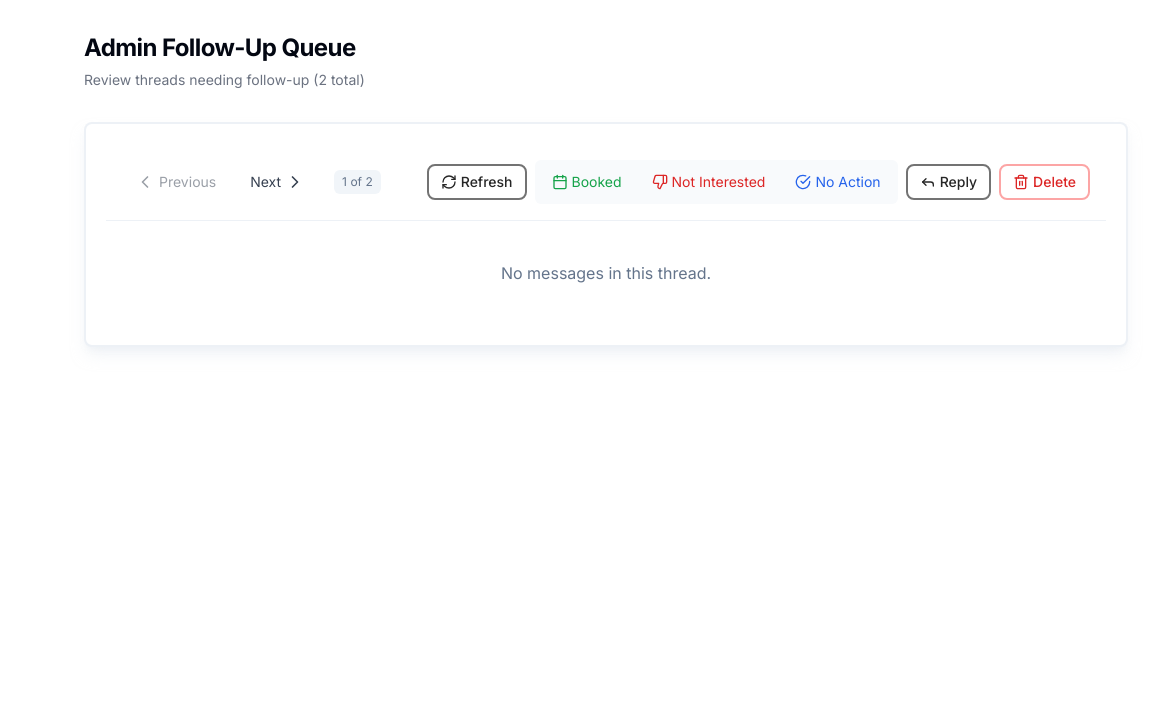
Test: AdminFollowUpQueuePage › shows reply form when reply button is clicked
Expected: the text "Reply" is shown, [940, 172, 977, 192]
Click the button "Reply": [948, 182] box [906, 164, 991, 200]
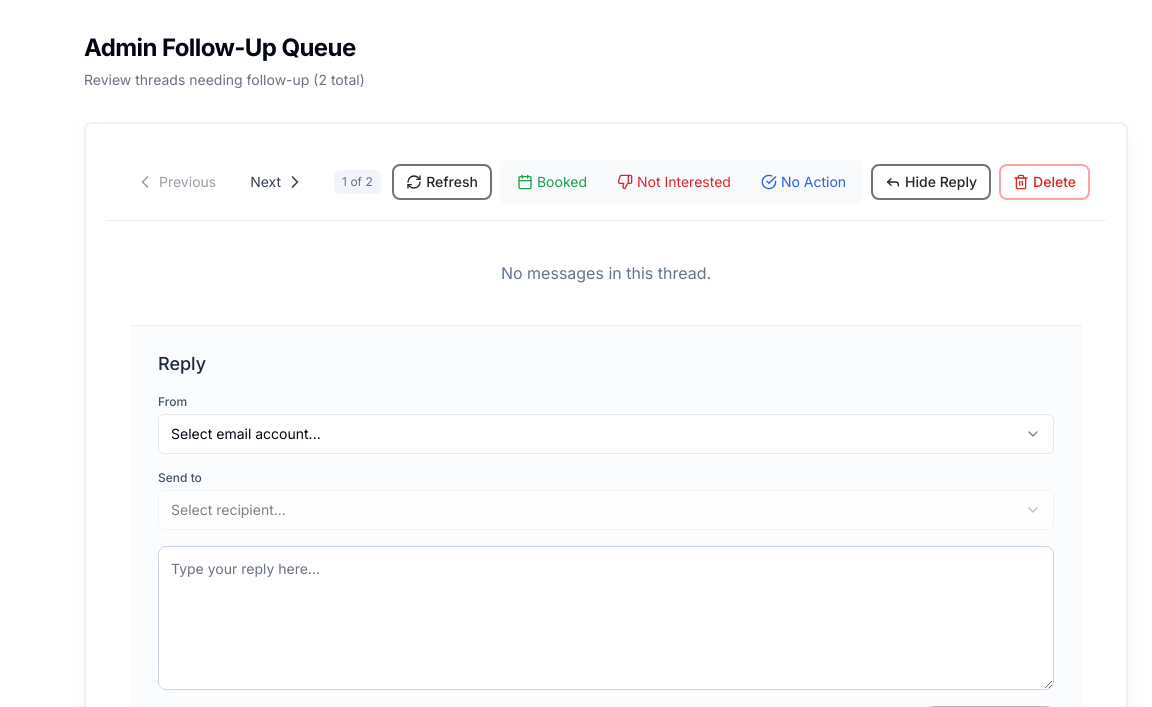
Now the text "Hide Reply" is shown, box [905, 172, 977, 192]
Now the text box with placeholder "Type your reply here..." is shown, box [158, 546, 1054, 690]
